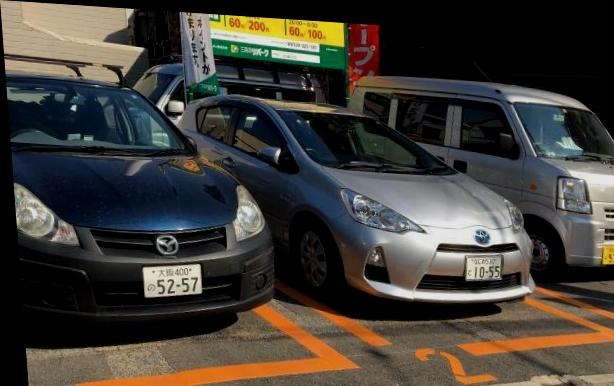License_Plate: (138, 256, 210, 307), (461, 249, 508, 289), (598, 239, 614, 270)
